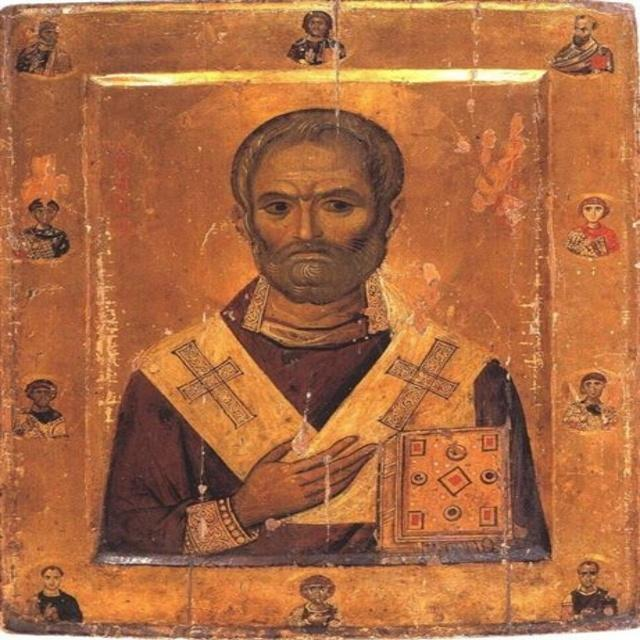aura: (150, 71, 472, 305)
book: (382, 427, 514, 554)
christ_face: (300, 11, 333, 38)
christ_hand: (226, 417, 375, 536)
cross: (171, 340, 265, 433), (379, 334, 465, 431)
saint: (94, 107, 550, 563), (552, 12, 616, 76), (11, 15, 75, 74), (12, 371, 64, 439), (564, 193, 619, 256), (562, 557, 616, 621), (564, 370, 619, 429), (31, 558, 79, 625), (288, 572, 344, 626), (24, 192, 65, 257)
